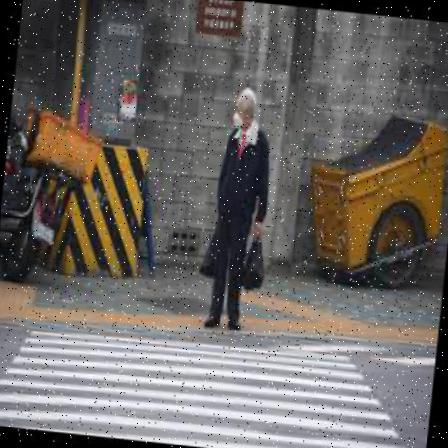silver: (202, 84, 276, 338)
